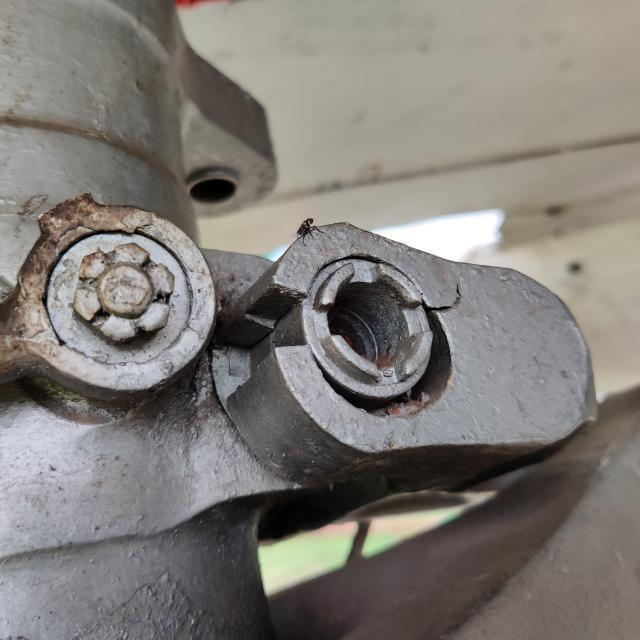Crack: (428, 272, 468, 316)
